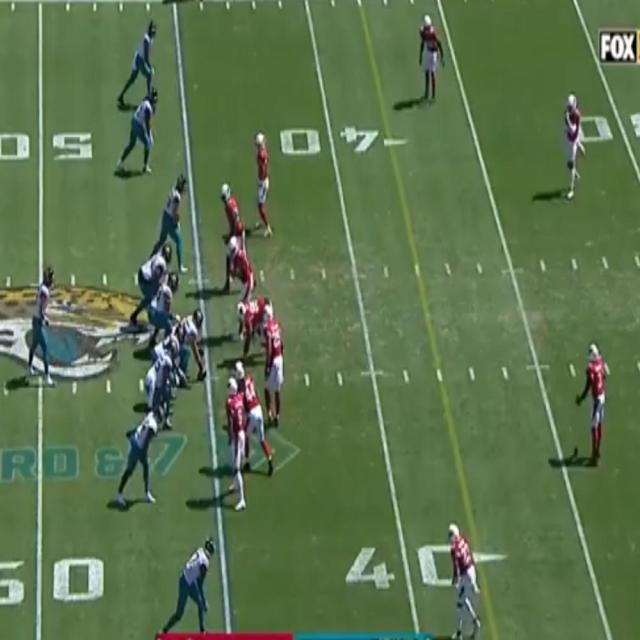center: (186, 309, 206, 379)
db: (450, 520, 480, 628), (563, 91, 584, 196), (593, 350, 608, 453), (420, 15, 440, 92)
lb: (263, 305, 286, 419)
qb: (33, 276, 53, 380)
skill: (235, 361, 272, 479), (178, 538, 215, 623), (226, 378, 250, 508), (124, 412, 158, 499), (163, 172, 187, 264), (130, 96, 157, 170), (128, 28, 154, 88), (255, 137, 270, 228), (224, 186, 242, 230)
